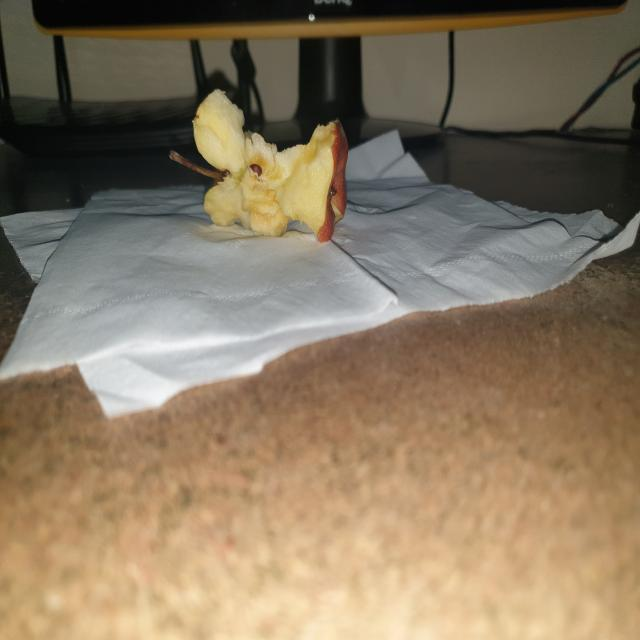apple: (146, 77, 370, 266)
